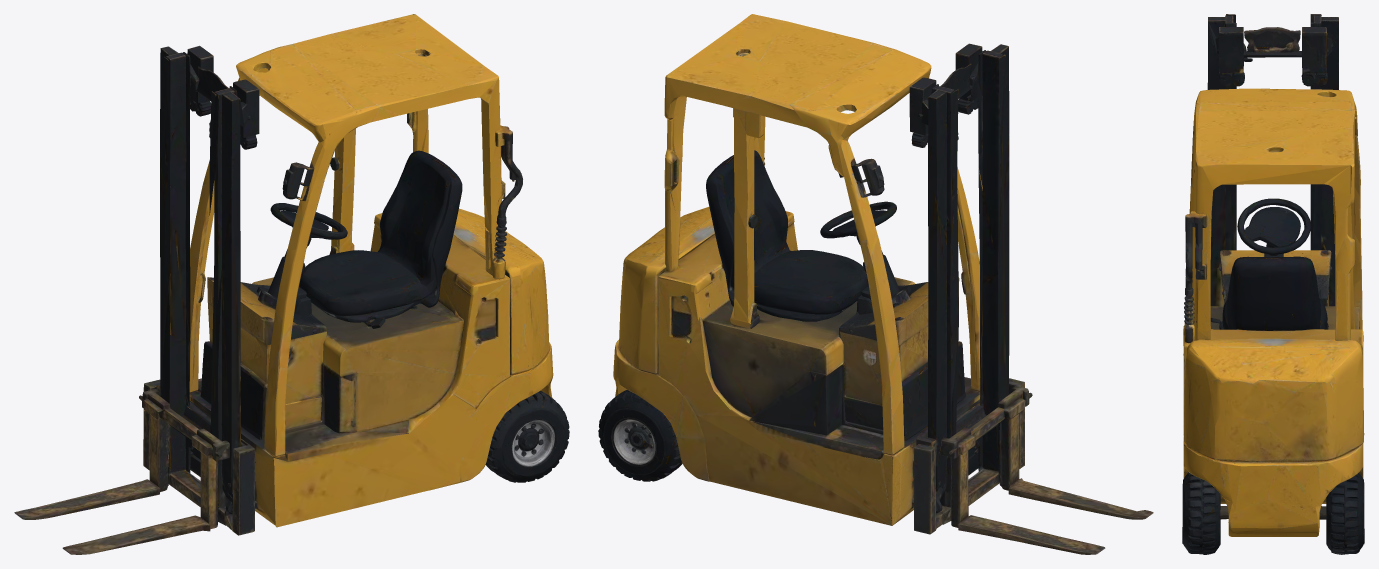
File: docaStacker.glb
3 views of the same model, side by side, from view 1: azimuth 30°, elevation 25°; view 2: azimuth 150°, elevation 25°; view 3: azimuth 270°, elevation 25° (orthographic). The views are drawn at different scales.
Bounding box in the file's own units: 1.9 × 1.66 × 0.6795.
Materials: 1 (1 with a texture image).
